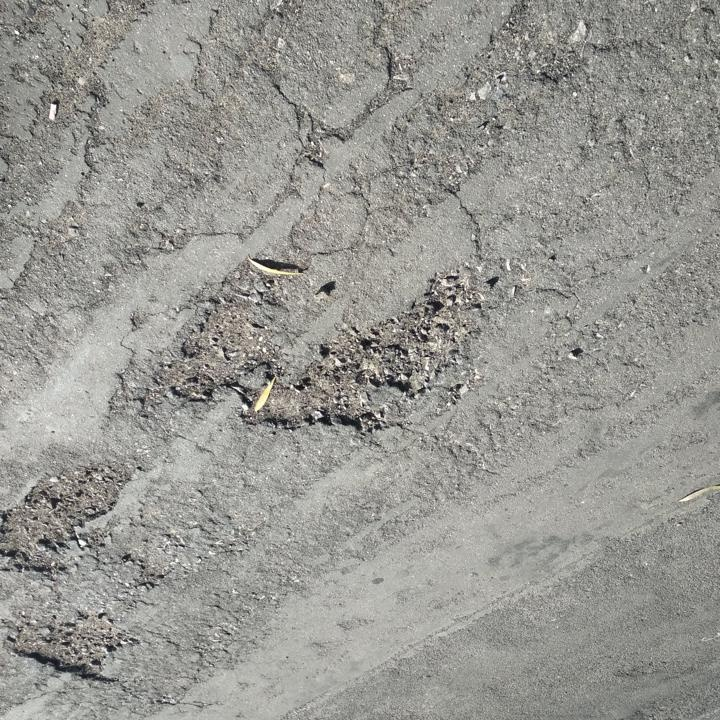pothole: (157, 255, 483, 436), (0, 458, 140, 579), (1, 606, 139, 684)
